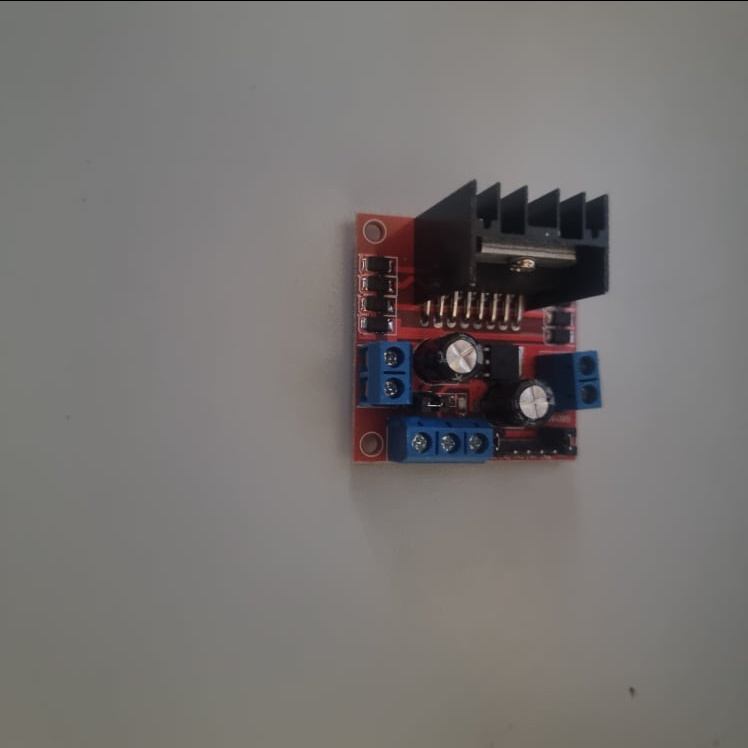MOTOR: (349, 178, 613, 467)
